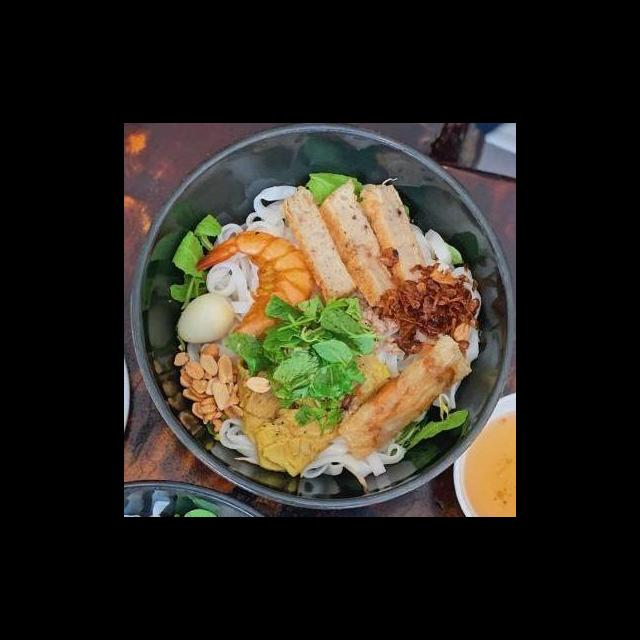cha gio: (335, 330, 477, 464)
mi: (408, 221, 485, 366), (297, 431, 409, 491), (215, 180, 303, 250), (203, 250, 263, 323), (214, 412, 261, 465)
tom: (193, 229, 317, 360)
trung: (175, 289, 237, 346)
